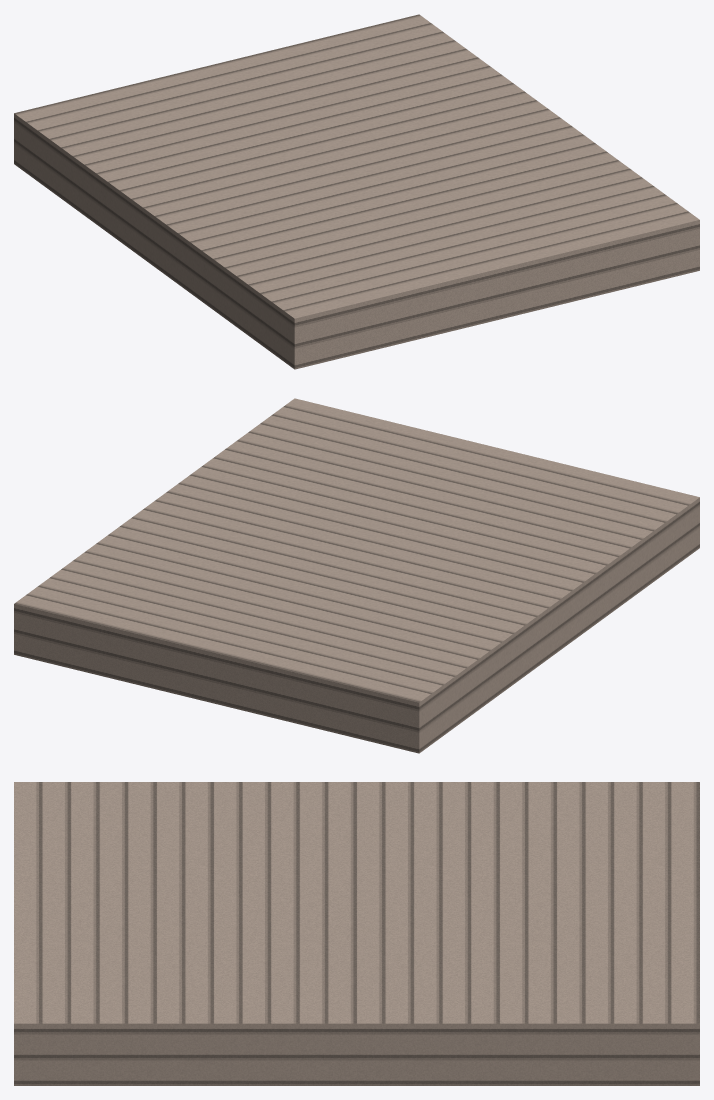
The model's file is ferry_landing_dock.glb.
3 views of the same model, one above another, from view 1: azimuth 30°, elevation 25°; view 2: azimuth 150°, elevation 25°; view 3: azimuth 270°, elevation 25° (orthographic). The views are drawn at different scales.
Parts seen in each view (by area): view 1: ferry_landing_dock-col; view 2: ferry_landing_dock-col; view 3: ferry_landing_dock-col.
Boxes of the visible parts, left/top/right/bottom form: ferry_landing_dock-col: left=14, top=14, right=699, bottom=369; ferry_landing_dock-col: left=14, top=398, right=699, bottom=753; ferry_landing_dock-col: left=14, top=782, right=699, bottom=1085.
Size of the model in its own units: 2.5 by 0.3 by 3.
1 material, 1 textured.
